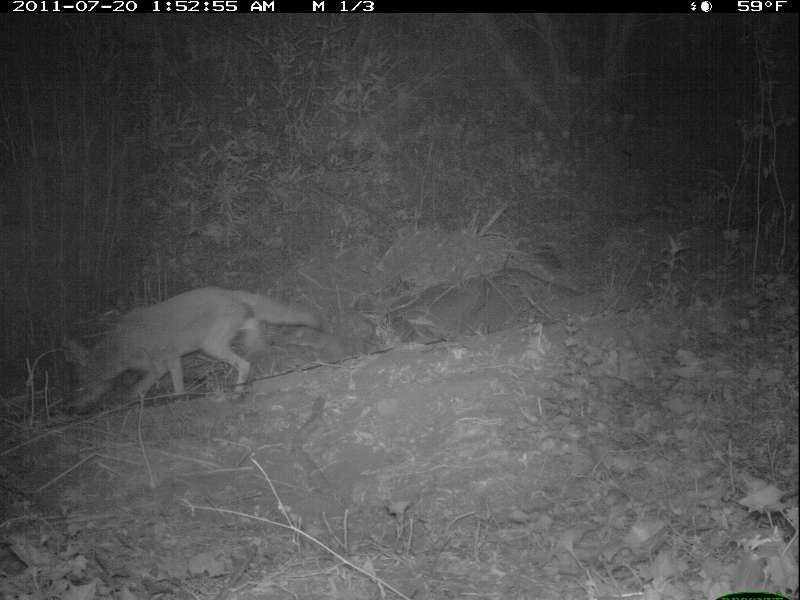coyote: (57, 286, 327, 413)
